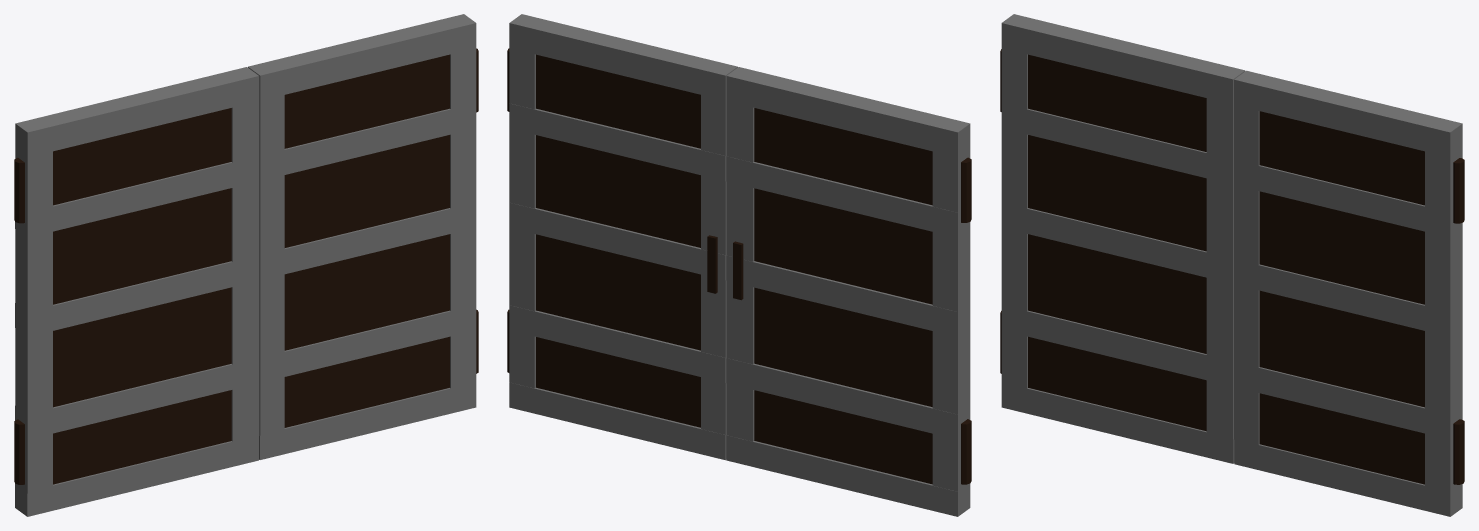
Rendered from Maze_Room.FBX.
3 renders of one model, left to right at view 1: azimuth 30°, elevation 25°; view 2: azimuth 150°, elevation 25°; view 3: azimuth 330°, elevation 25°, orthographic.
Visible parts, largest first — view 1: Outer Door; view 2: Outer Door; view 3: Outer Door.
Part boxes in pixels (<box>): Outer Door: <box>14,14,478,516</box>; Outer Door: <box>507,14,971,516</box>; Outer Door: <box>1000,14,1464,516</box>.
Size of the model in its own units: 64.8 by 51.51 by 3.49.
